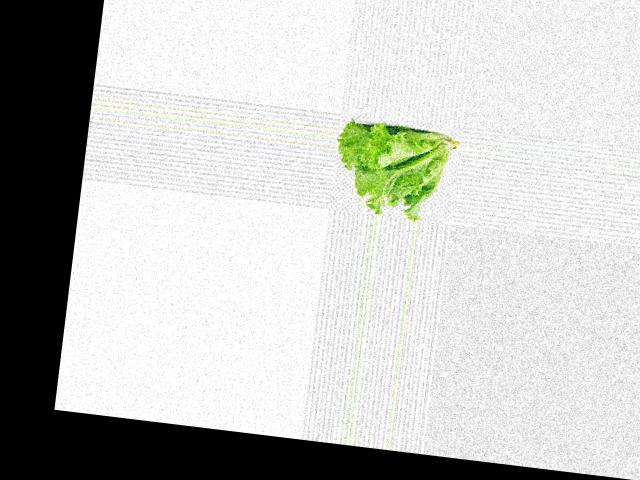lettuce: (330, 121, 461, 224)
